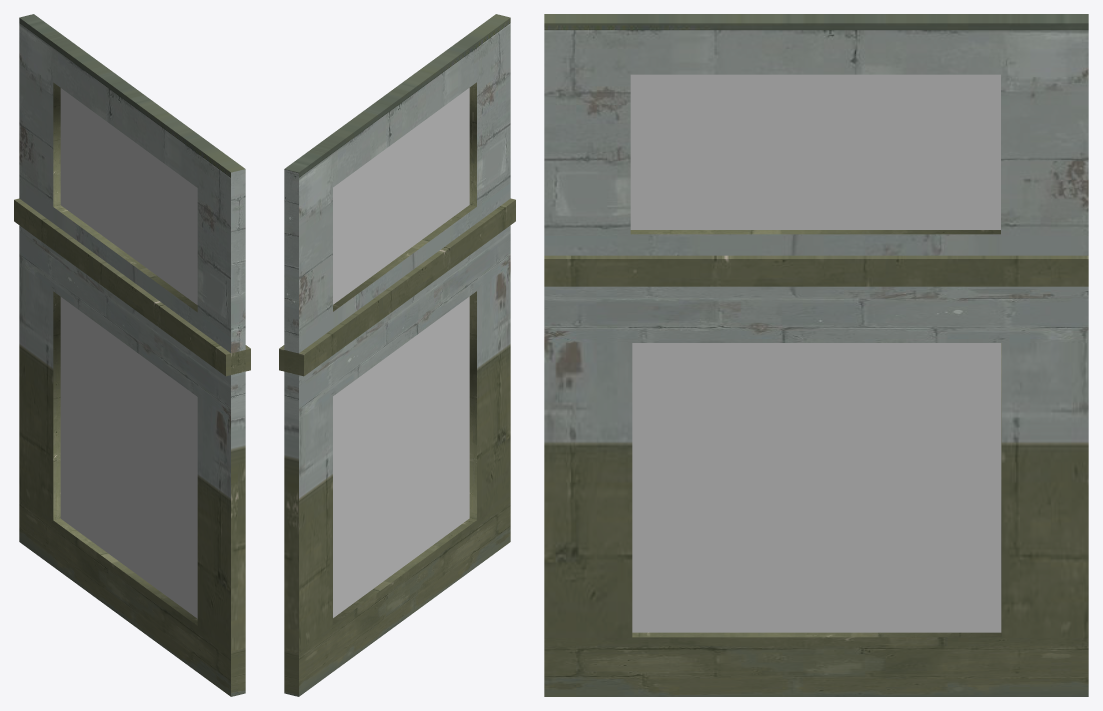
Rendered from Wall_Medium_windowed3.fbx.
The picture shows the model from 3 angles, left to right: view 1: azimuth 30°, elevation 25°; view 2: azimuth 150°, elevation 25°; view 3: azimuth 270°, elevation 25°; orthographic projection. The views are drawn at different scales.
Visible parts, largest first — view 1: Wall_Medium_windowed2; view 2: Wall_Medium_windowed2; view 3: Wall_Medium_windowed2.
Boxes of the visible parts, x1,y1,x2,y2 form: Wall_Medium_windowed2: (14, 14, 250, 696); Wall_Medium_windowed2: (279, 14, 515, 696); Wall_Medium_windowed2: (544, 14, 1088, 696).
Bounding box in the file's own units: 0.4076 × 8.13 × 5.96.
